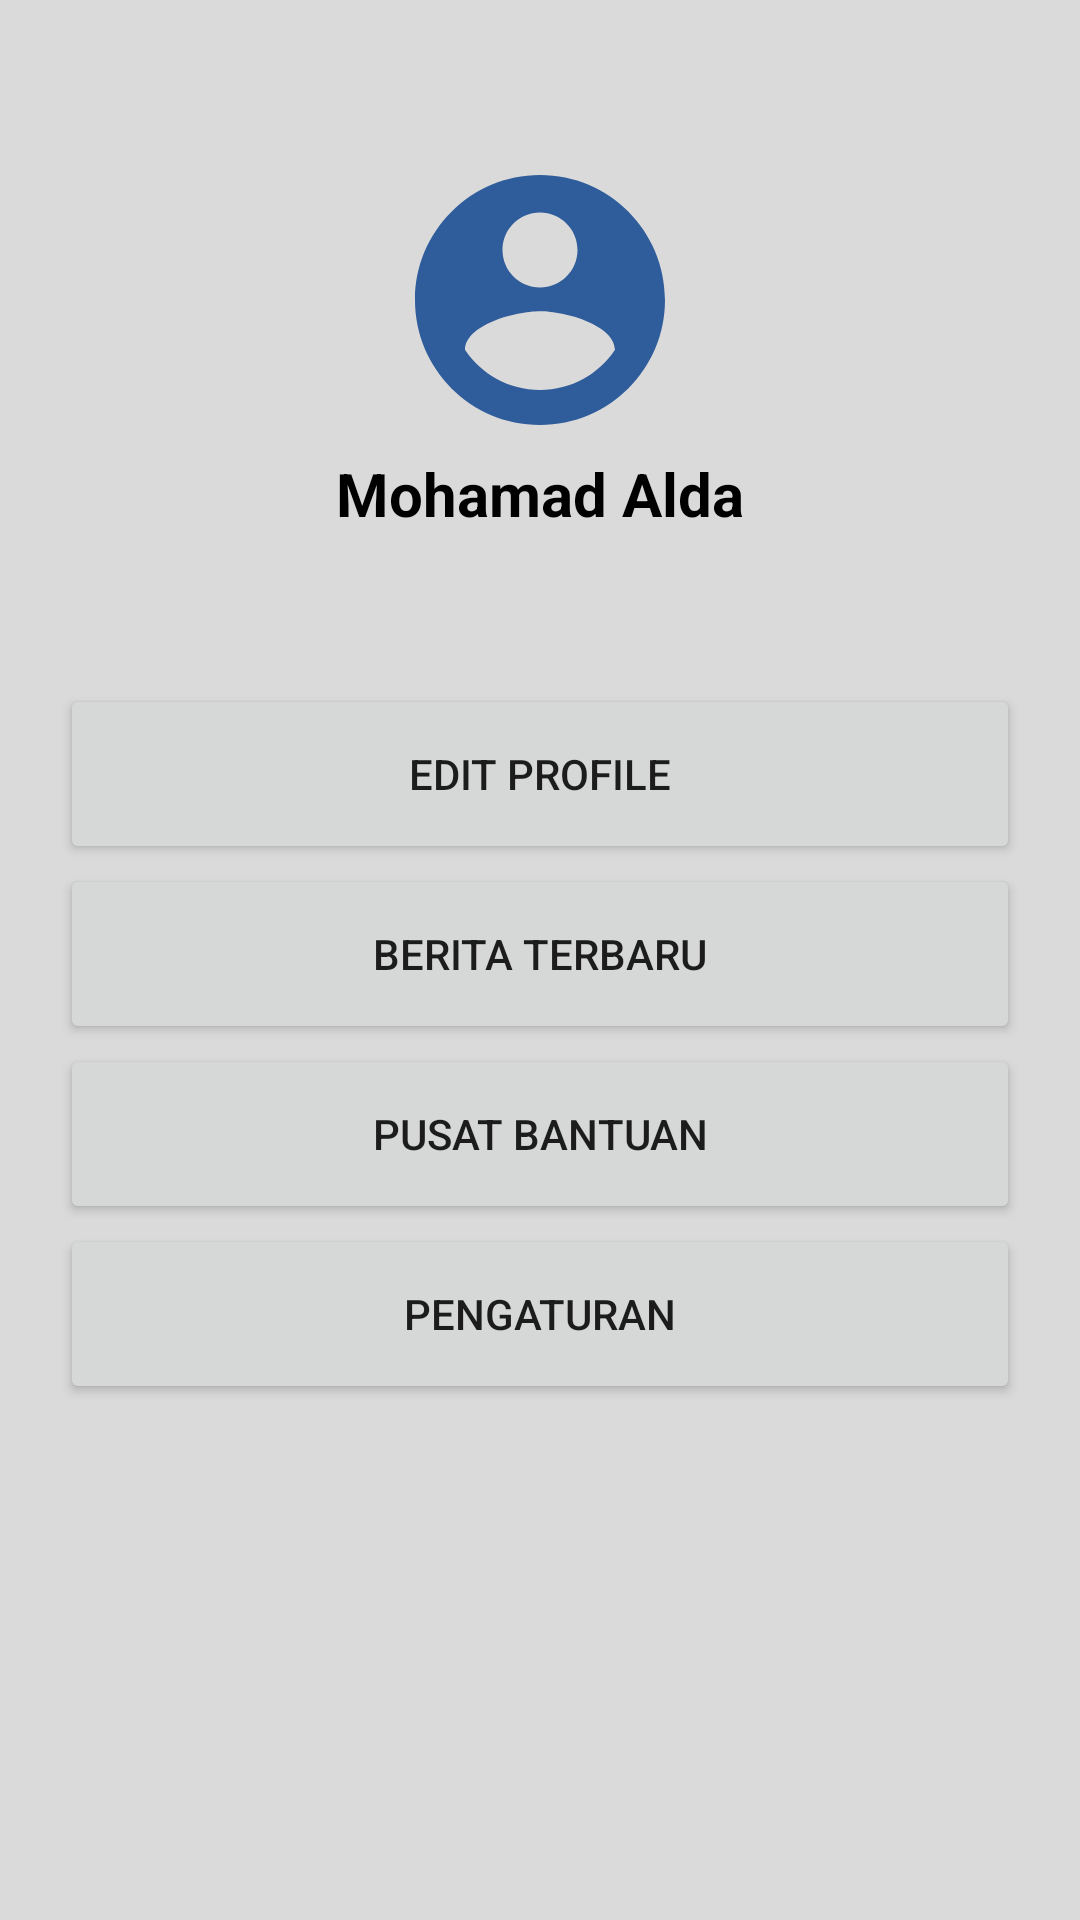

Named icons in this screenshot (1080 × 1920) and their bounding boxes, bbox=[x1, y1, x2, y2]:
akun bulat: bbox=[415, 175, 665, 425]
